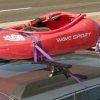Boat: (0, 7, 99, 65)
